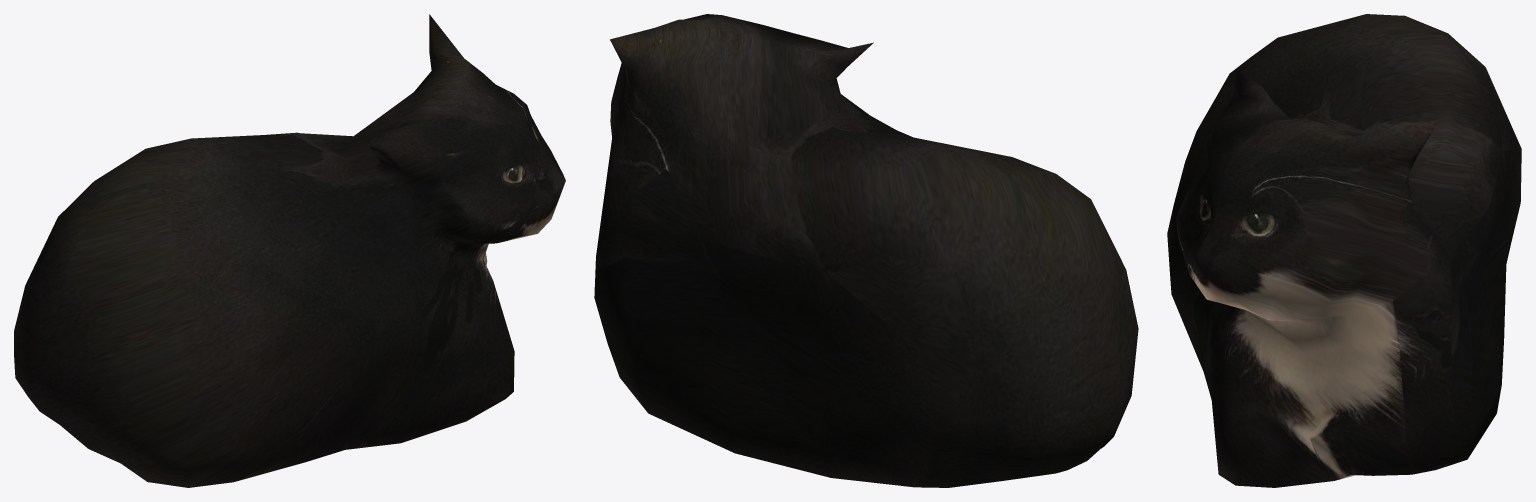
The model's file is [etkjdoiqwhuiorhvuier.glb.
3 renders of one model, left to right at view 1: azimuth 30°, elevation 25°; view 2: azimuth 150°, elevation 25°; view 3: azimuth 270°, elevation 25°, orthographic. The views are drawn at different scales.
Parts seen in each view (by area): view 1: dingus; view 2: dingus; view 3: dingus.
Part boxes in pixels (x1,y1,x2,y2): dingus: (14, 14, 565, 487); dingus: (594, 14, 1138, 487); dingus: (1167, 14, 1521, 487).
Bounding box in the file's own units: 4.11 × 2.82 × 2.25.
Materials: 1 (1 with a texture image).
